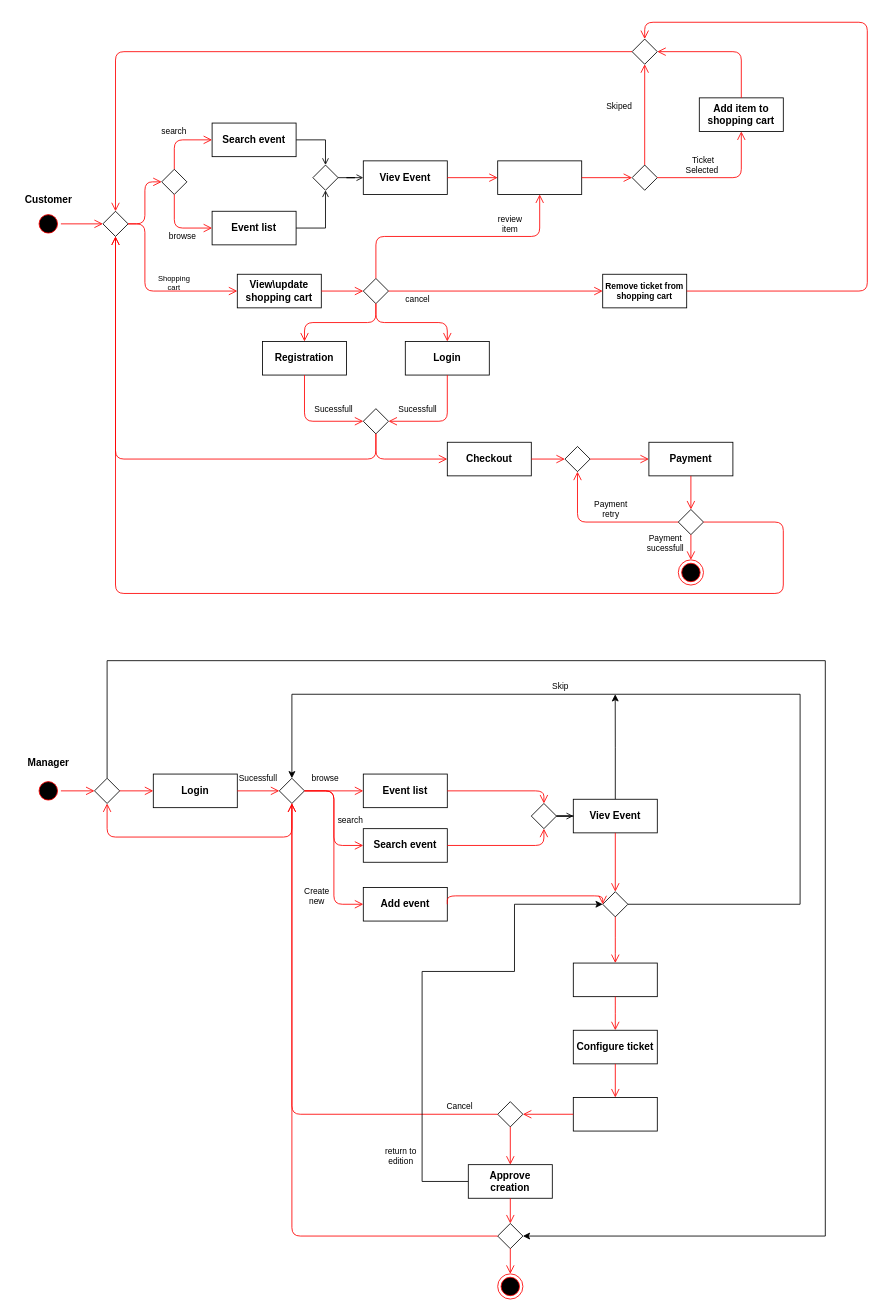
The diagram is 890 pixels wide and 1314 high, and some of its shapes have lost their labels. Each missing label, with the box of its shape:
Check ticket: (497, 160, 582, 194)
Configure Event: (572, 962, 657, 997)
View\update Event: (572, 1097, 657, 1131)
